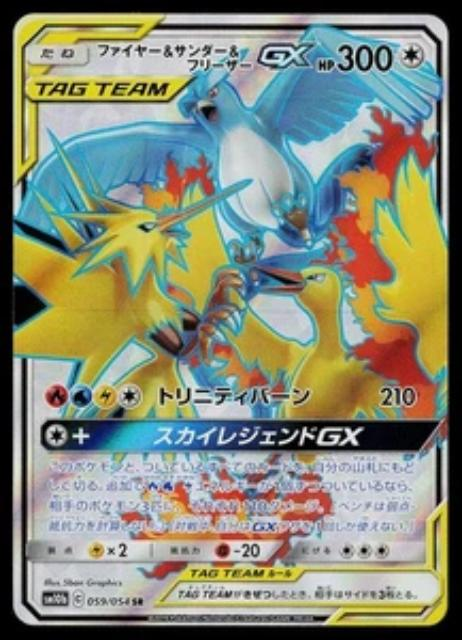Card: (10, 9, 453, 630)
Name: (94, 37, 319, 74)
